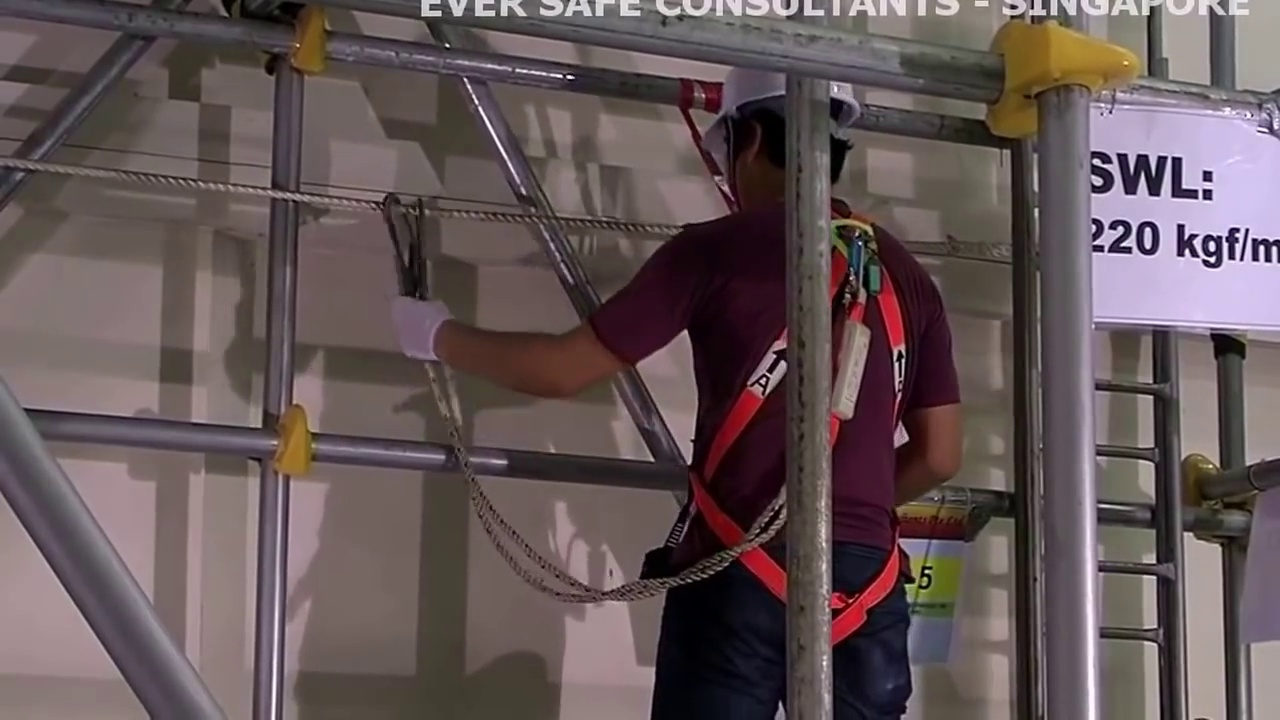harness: (747, 223, 912, 629)
helmet: (718, 67, 851, 115)
hook: (374, 184, 435, 288)
leash: (421, 390, 654, 615)
